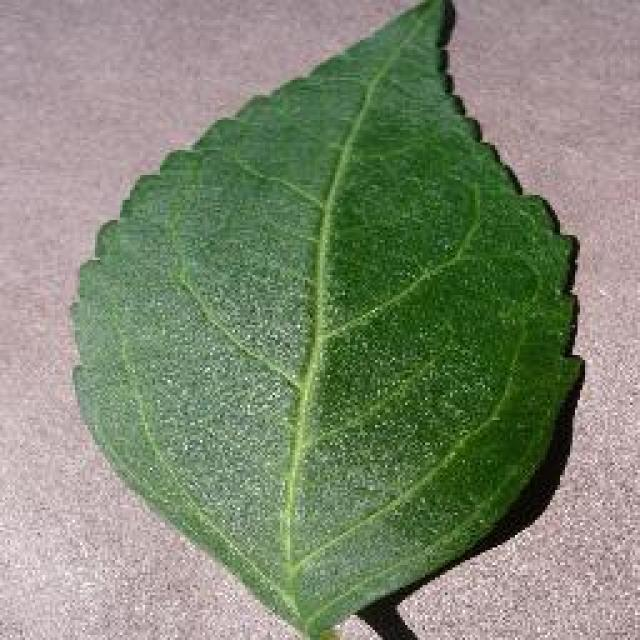Cher_including_sour_healthy: (110, 60, 560, 531)
